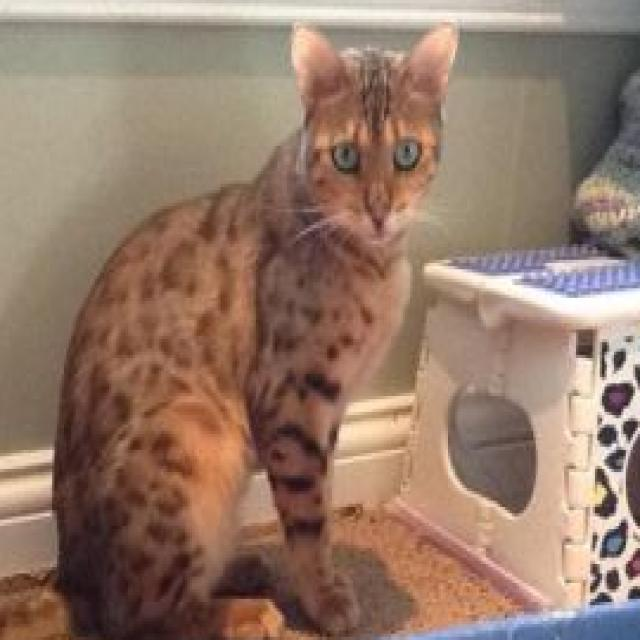Bengal: (0, 16, 462, 640)
